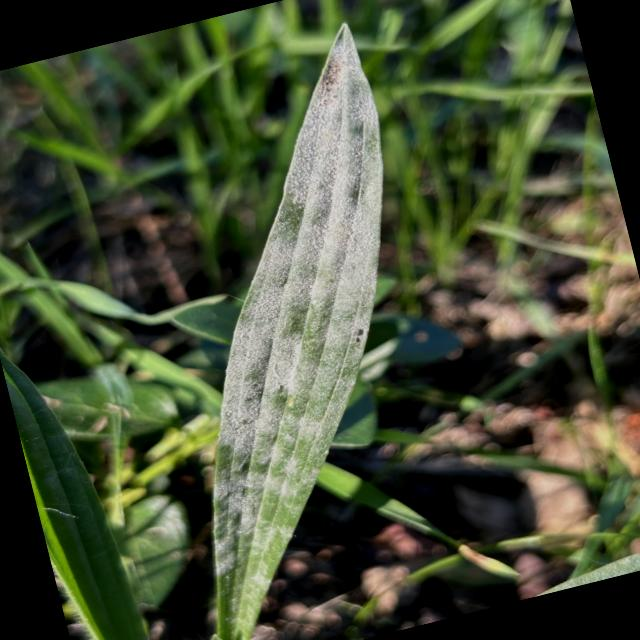powdery_mildew: (212, 24, 382, 640)
